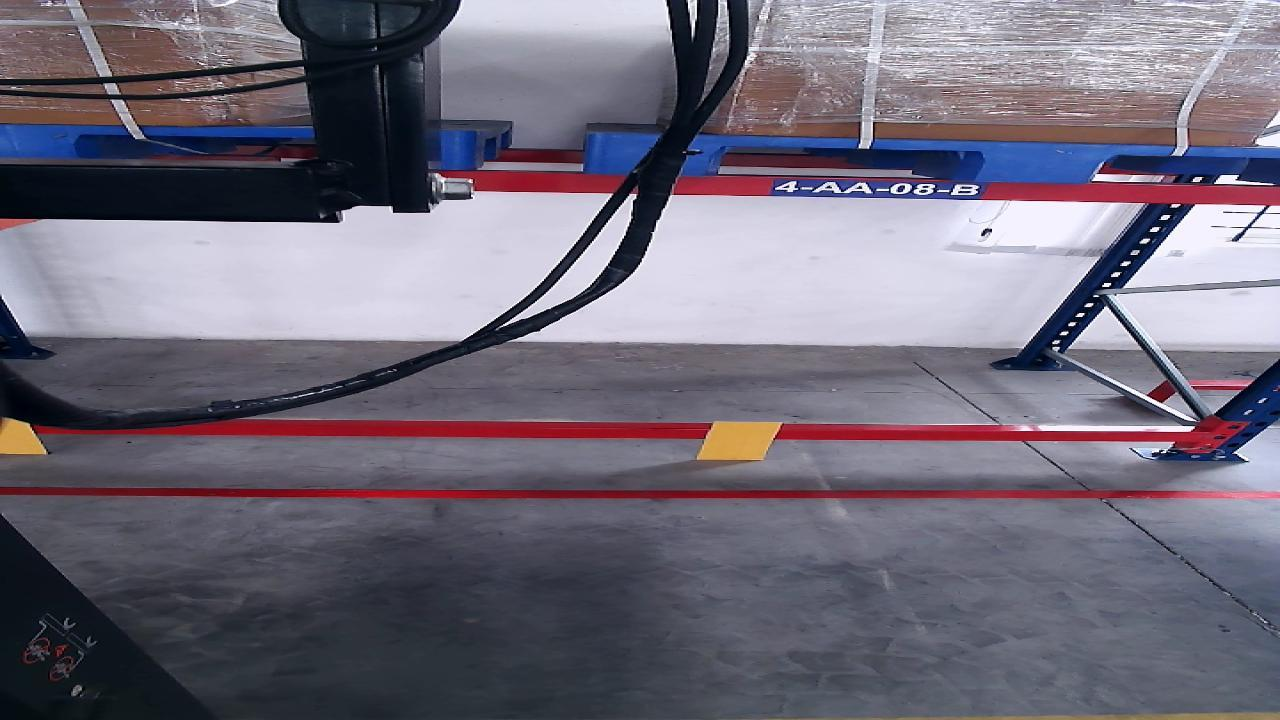h_rack: (456, 170, 1279, 203), (31, 424, 1201, 442)
orange_strip: (696, 423, 778, 459)
red_line: (0, 487, 1279, 500)
small_pallet: (588, 135, 1274, 181), (3, 123, 473, 170)
